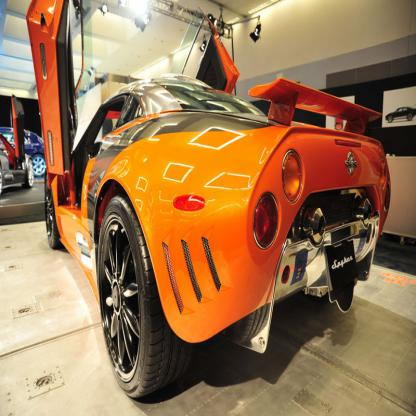car: (27, 5, 395, 401)
